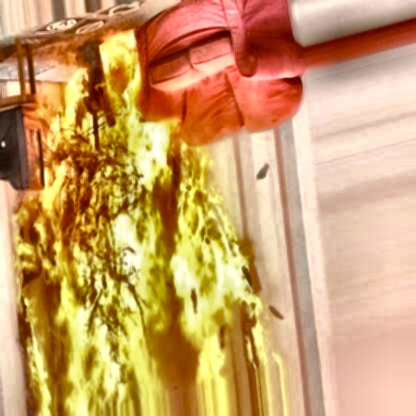fire: (10, 30, 272, 416)
